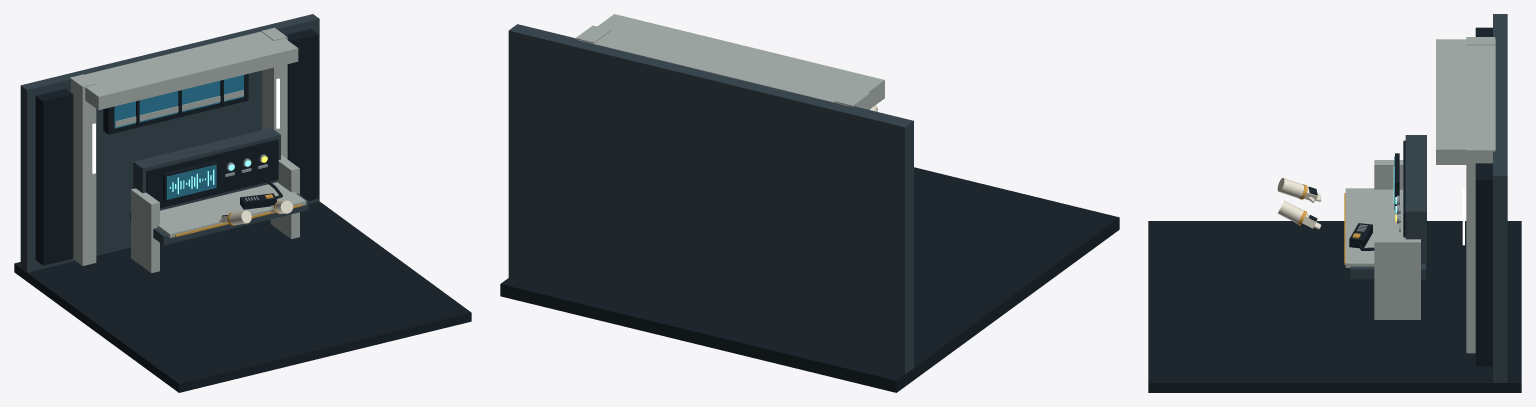
Rendered from 04-clearance.glb.
The picture shows the model from 3 angles, left to right: view 1: azimuth 30°, elevation 25°; view 2: azimuth 150°, elevation 25°; view 3: azimuth 270°, elevation 25°; orthographic projection. The views are drawn at different scales.
Visible parts, largest first — view 1: floor, aft-bulkhead, wall-recess (×2), ceiling-bulkhead, column (×2), instrument-face, side-console (×2), control-surface, instrument-housing, outside-color, glass, window-frame (+4 smaller); view 2: aft-bulkhead, floor, ceiling-bulkhead; view 3: floor, ceiling-bulkhead, aft-bulkhead, side-console (×2), wall-recess, control-surface, column, instrument-housing, sleeve (×2), center-desk, handset.
Boxes of the visible parts, x1=… form: floor: x1=14, y1=201, x2=471, y2=392; aft-bulkhead: x1=20, y1=14, x2=319, y2=272; wall-recess (×2): x1=35, y1=29, x2=318, y2=265; ceiling-bulkhead: x1=84, y1=31, x2=298, y2=110; column (×2): x1=70, y1=27, x2=287, y2=265; instrument-face: x1=146, y1=139, x2=278, y2=208; side-console (×2): x1=131, y1=155, x2=299, y2=273; control-surface: x1=157, y1=182, x2=306, y2=237; instrument-housing: x1=133, y1=128, x2=280, y2=210; outside-color: x1=114, y1=75, x2=243, y2=128; glass: x1=166, y1=164, x2=216, y2=199; window-frame: x1=103, y1=74, x2=248, y2=134; aft-bulkhead: x1=508, y1=24, x2=913, y2=374; floor: x1=500, y1=167, x2=1119, y2=392; ceiling-bulkhead: x1=578, y1=14, x2=884, y2=108; floor: x1=1148, y1=221, x2=1521, y2=392; ceiling-bulkhead: x1=1436, y1=39, x2=1495, y2=164; aft-bulkhead: x1=1493, y1=14, x2=1507, y2=382; side-console (×2): x1=1374, y1=160, x2=1420, y2=319; wall-recess: x1=1475, y1=163, x2=1492, y2=366; control-surface: x1=1345, y1=188, x2=1403, y2=267; column: x1=1466, y1=142, x2=1495, y2=353; instrument-housing: x1=1405, y1=135, x2=1426, y2=263; sleeve (×2): x1=1277, y1=178, x2=1304, y2=223; center-desk: x1=1350, y1=264, x2=1425, y2=279; handset: x1=1349, y1=223, x2=1372, y2=248.
Size of the model in its own units: 4.1 by 2.58 by 4.
